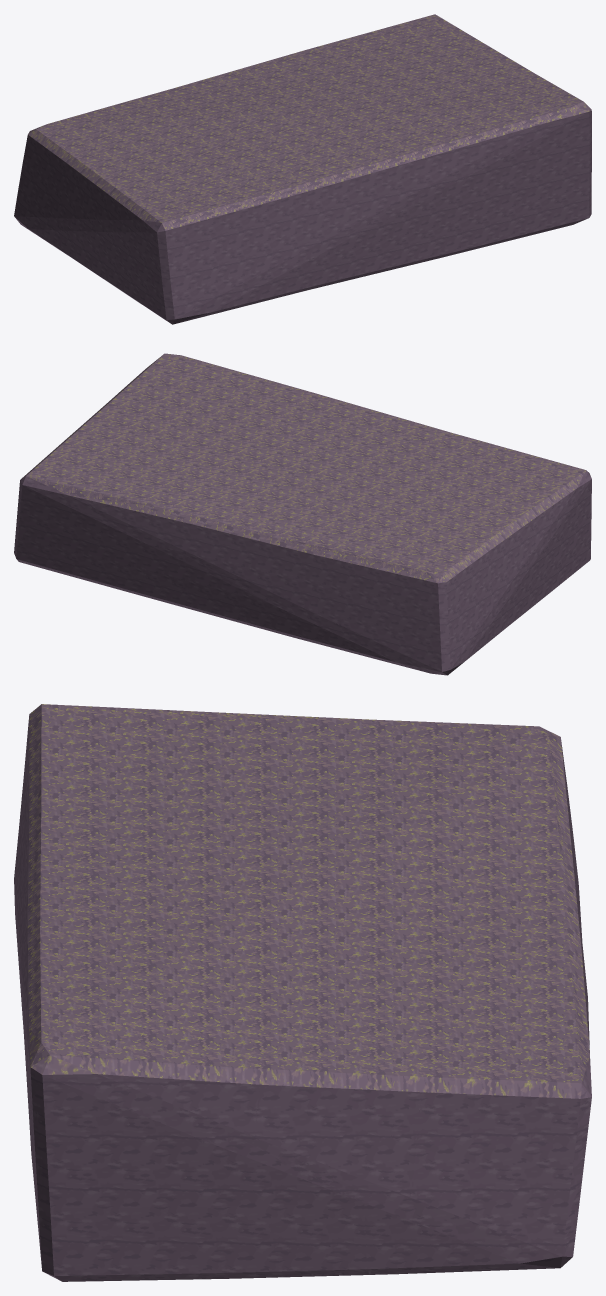
Rendered from Roof_slab_B.fbx.
3 views of the same model, one above another, from view 1: azimuth 30°, elevation 25°; view 2: azimuth 150°, elevation 25°; view 3: azimuth 270°, elevation 25° (orthographic). The views are drawn at different scales.
Parts seen in each view (by area): view 1: RoofB; view 2: RoofB; view 3: RoofB.
Part boxes in pixels (x1,y1,x2,y2): RoofB: (14, 14, 591, 324); RoofB: (14, 353, 591, 675); RoofB: (14, 704, 591, 1281).
Size of the model in its own units: 4.12 by 1.08 by 2.53.
